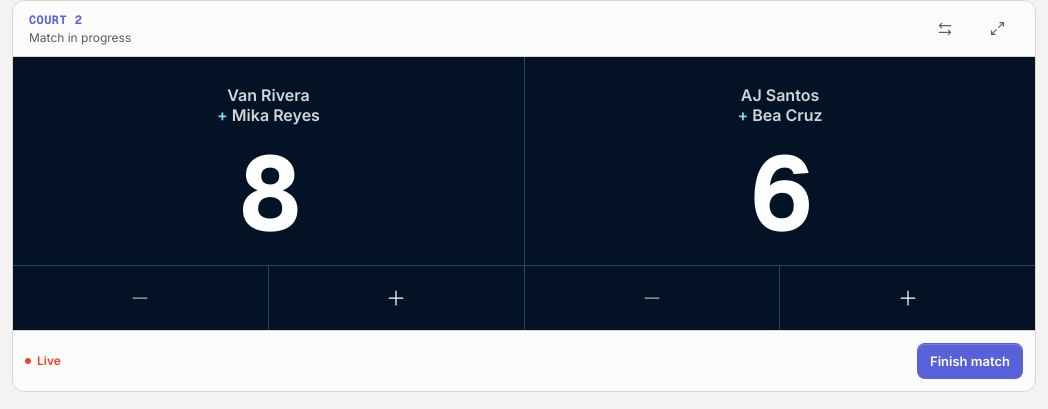
it: LiveCourt › updates immediately and debounces rapid score changes into one durable write
What coordinates should you click on to do the following:
click the button named "Add a point to Van Rivera + Mika Reyes"
I would click on:
 (396, 298)
Its box is [268,266,524,330].
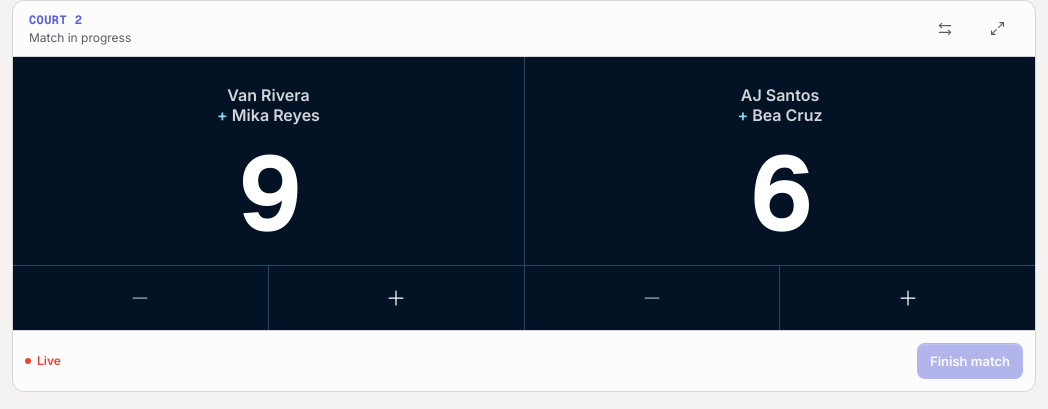
What coordinates should you click on to do the following:
click the button named "Add a point to Van Rivera + Mika Reyes"
I would click on:
 (396, 298)
Its box is [268,266,524,330].
Wait 421 ms
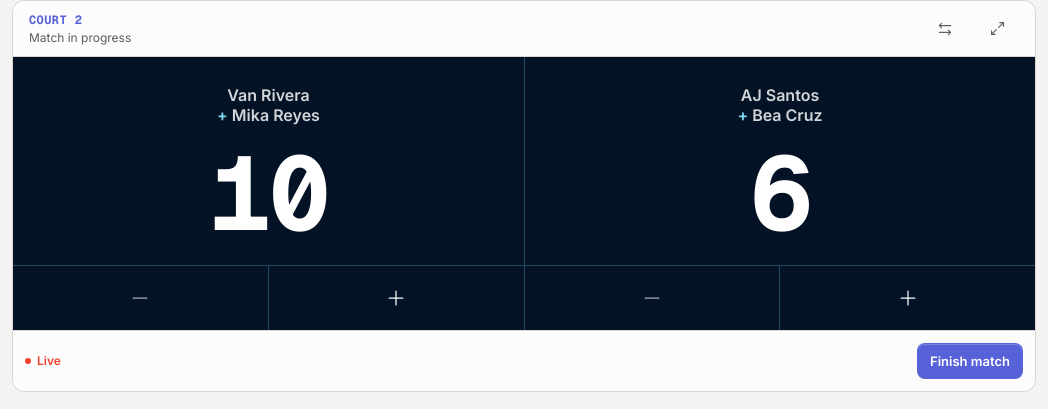
expect the text named "Van Rivera + Mika Reyes score 10" reads "10": met, box [210,125,327,261]
